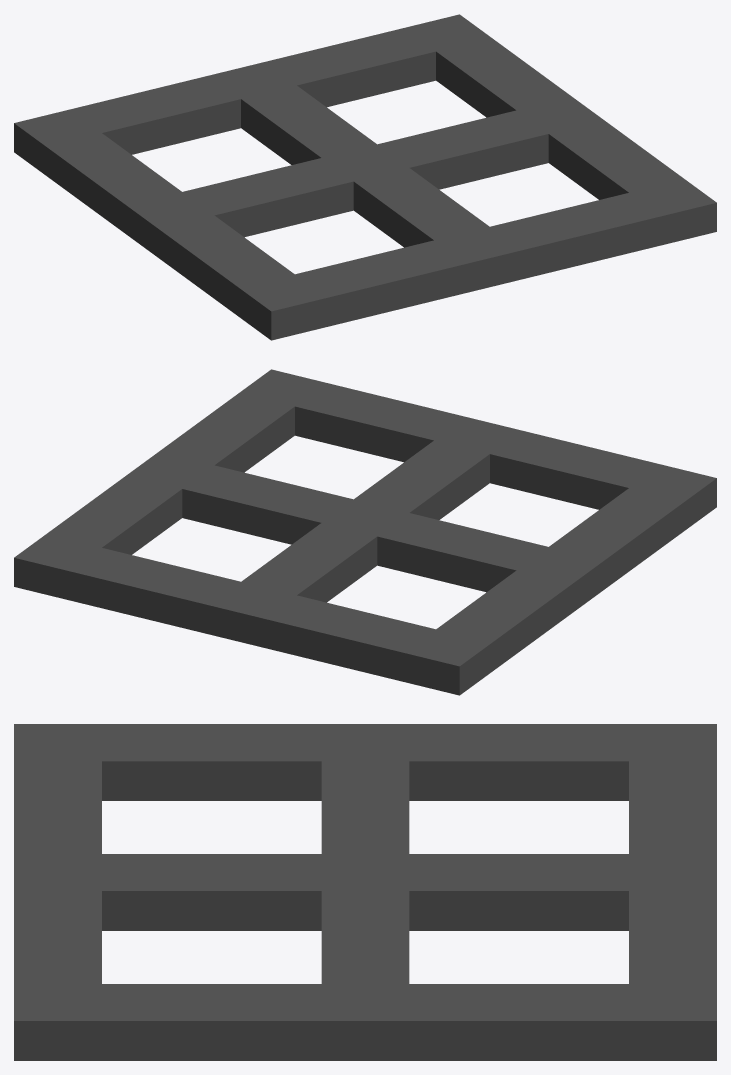
Rendered from bridge.obj.
3 renders of one model, top to bottom at view 1: azimuth 30°, elevation 25°; view 2: azimuth 150°, elevation 25°; view 3: azimuth 270°, elevation 25°, orthographic. The views are drawn at different scales.
Bounding box in the file's own units: 1.6 × 0.1 × 1.6.
Materials: 1 (1 with a texture image).
